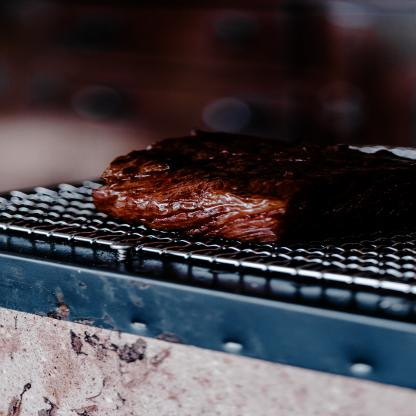Carne: (82, 129, 415, 247)
